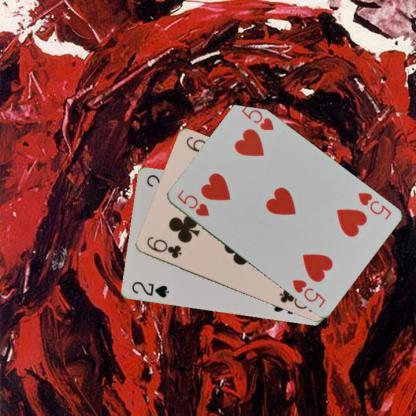2s: (129, 279, 170, 299)
5h: (355, 189, 392, 222), (174, 186, 210, 218)
6c: (143, 234, 183, 260)
